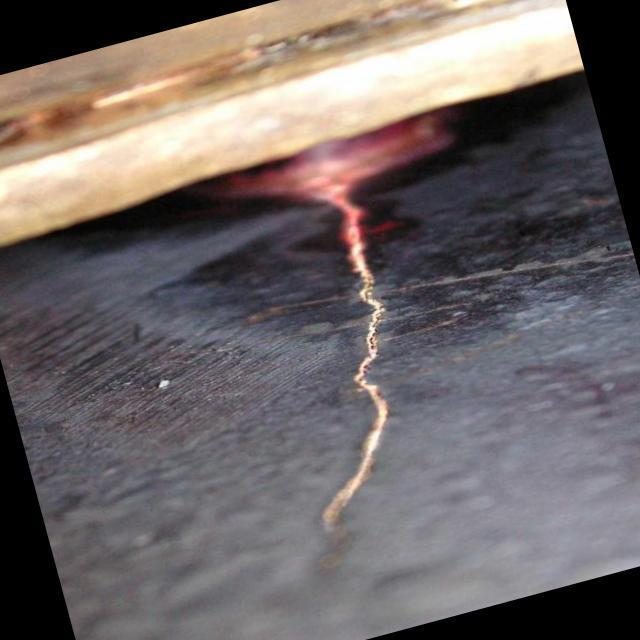defect: (314, 183, 394, 573)
